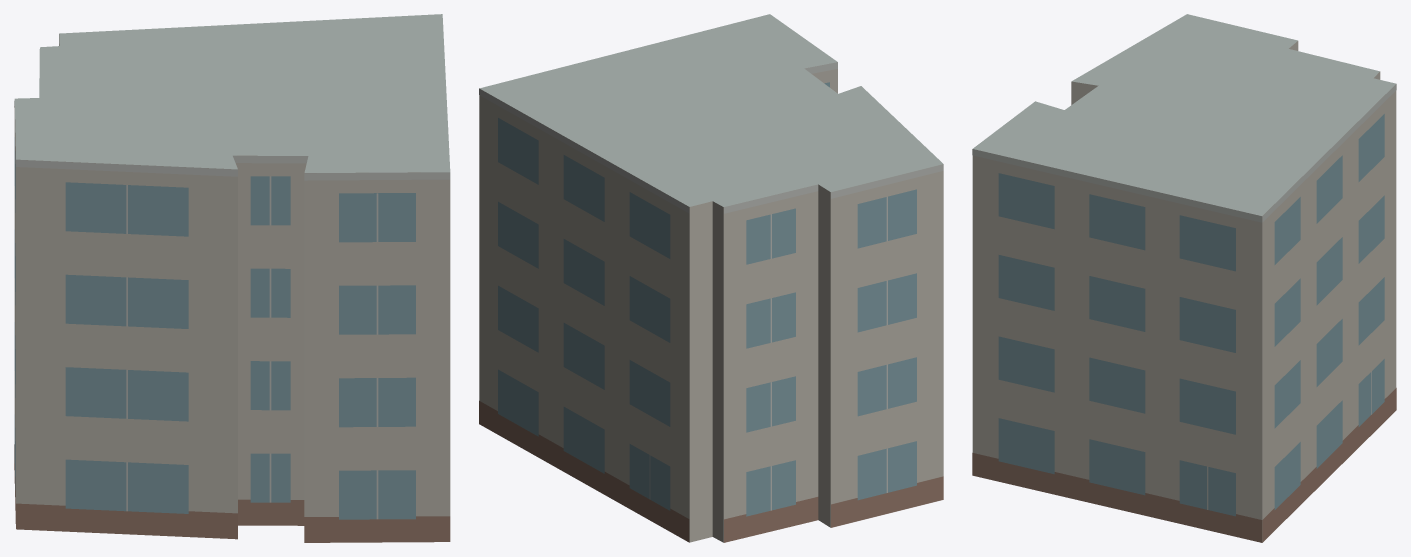
File: survey-upis-32772546.glb
3 renders of one model, left to right at view 1: azimuth 30°, elevation 25°; view 2: azimuth 150°, elevation 25°; view 3: azimuth 270°, elevation 25°, orthographic. The views are drawn at different scales.
Visible parts, largest first — view 1: survey-upis-32772546.tmp; view 2: survey-upis-32772546.tmp; view 3: survey-upis-32772546.tmp.
Boxes of the visible parts, x1,y1,x2,y2 form: survey-upis-32772546.tmp: (14, 14, 450, 542); survey-upis-32772546.tmp: (479, 14, 943, 542); survey-upis-32772546.tmp: (972, 14, 1396, 542).
Size of the model in its own units: 16.2 by 12.2 by 14.36.
